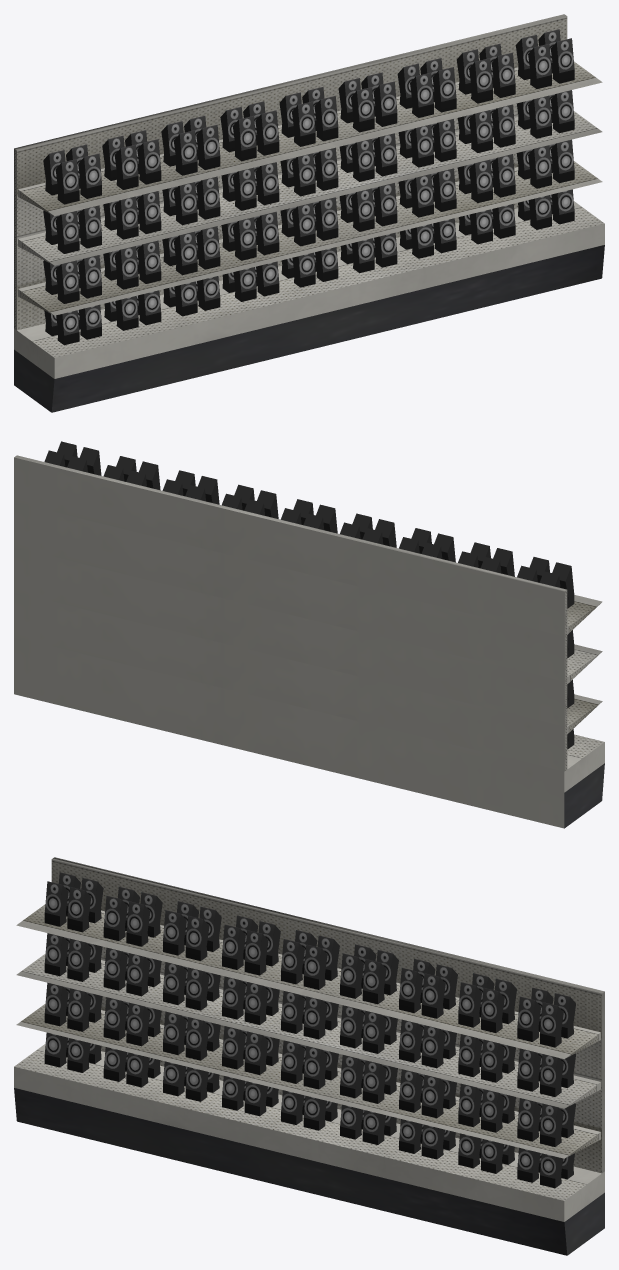
Rendered from Spekers_Shelf.fbx.
3 views of the same model, one above another, from view 1: azimuth 30°, elevation 25°; view 2: azimuth 150°, elevation 25°; view 3: azimuth 330°, elevation 25° (orthographic).
Visible parts, largest first — view 1: Speakers_Shelf; view 2: Speakers_Shelf; view 3: Speakers_Shelf.
Part boxes in pixels (<box>): Speakers_Shelf: <box>14,14,604,412</box>; Speakers_Shelf: <box>14,441,604,828</box>; Speakers_Shelf: <box>14,857,604,1255</box>.
Bounding box in the file's own units: 4.66 × 1.92 × 0.5946.
